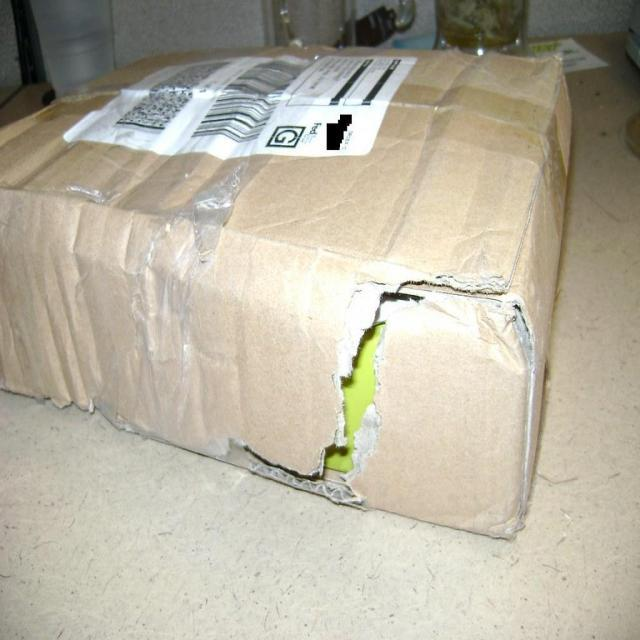box: (0, 48, 575, 539)
crushed: (0, 57, 233, 444)
opened: (308, 274, 413, 503)
